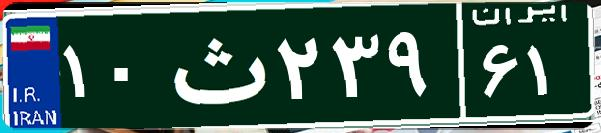0: (110, 28, 158, 105)
1: (57, 26, 110, 107), (525, 38, 570, 115)
2: (273, 28, 330, 110)
3: (330, 28, 385, 110)
6: (475, 38, 525, 113)
9: (385, 28, 445, 110)
ث: (158, 15, 273, 115)
